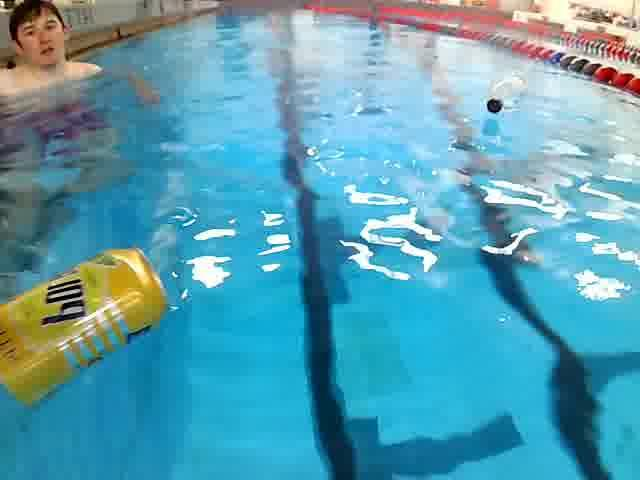Bottle: (477, 70, 533, 120)
Can: (0, 240, 176, 416)
